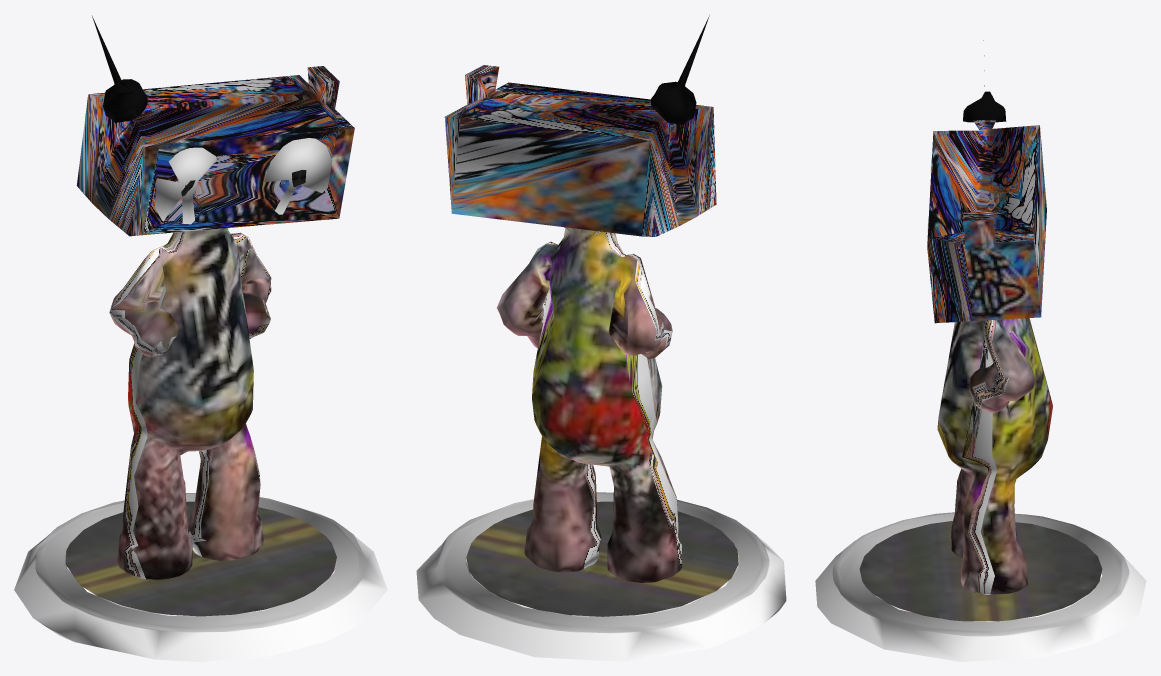
3 renders of one model, left to right at view 1: azimuth 30°, elevation 25°; view 2: azimuth 150°, elevation 25°; view 3: azimuth 270°, elevation 25°, orthographic. The views are drawn at different scales.
Size of the model in its own units: 1.44 by 2.53 by 1.43.
Materials: 7 (3 with a texture image).
